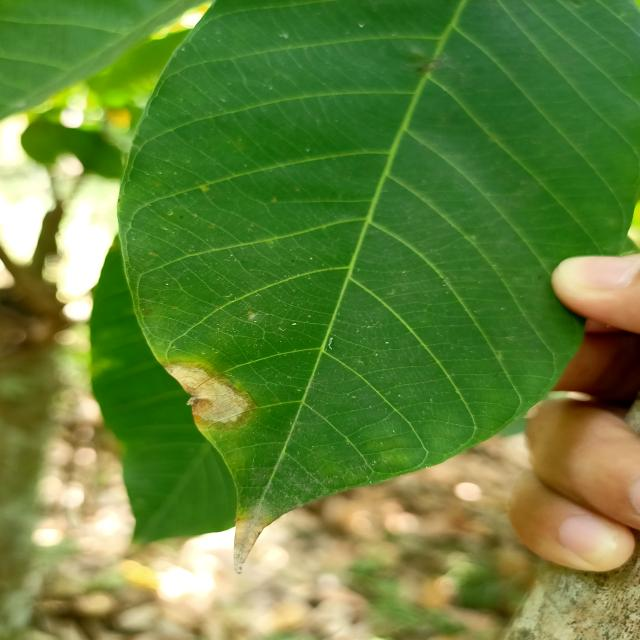Leaf-Blight: (160, 362, 248, 423), (233, 517, 272, 572)
